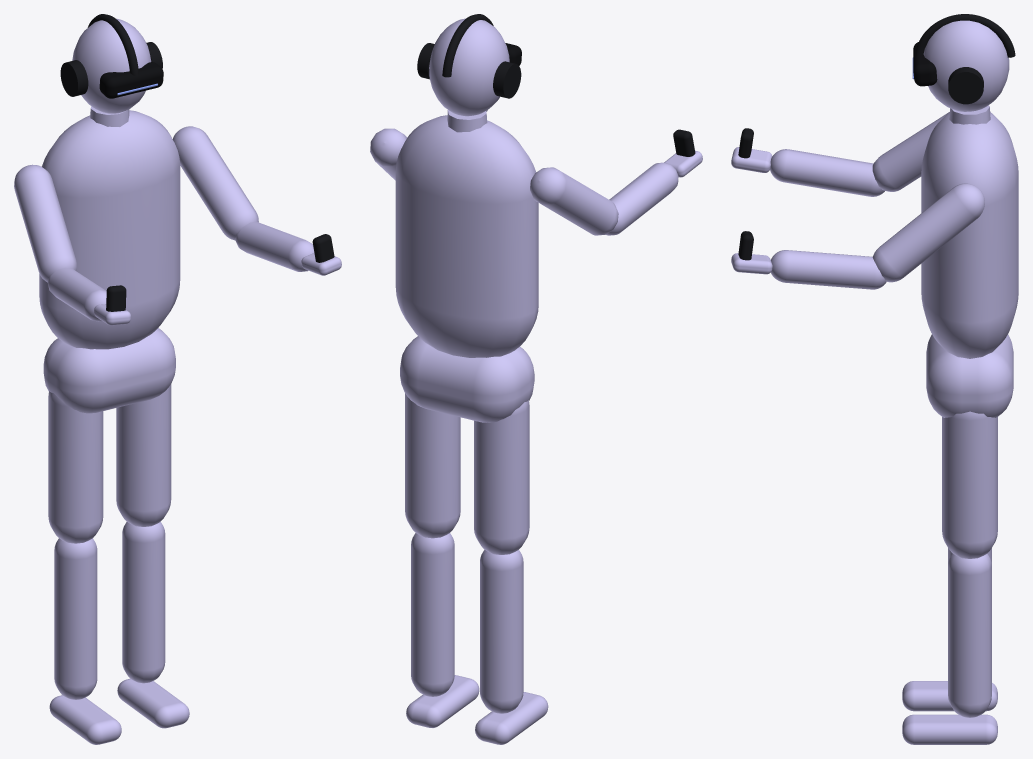
The model's file is mannequin-teleop.glb.
The picture shows the model from 3 angles, left to right: view 1: azimuth 30°, elevation 25°; view 2: azimuth 150°, elevation 25°; view 3: azimuth 270°, elevation 25°; orthographic projection.
Visible parts, largest first — view 1: chest, pelvis, thighR, thighL, shinR, shinL, upperArmL, upperArmR, headMesh, foreArmL, footL, footR (+4 smaller); view 2: chest, pelvis, thighR, thighL, shinR, shinL, headMesh, upperArmR, foreArmR, footR, footL, headset (+3 smaller); view 3: chest, thighL, shinL, pelvis, headMesh, upperArmL, foreArmR, foreArmL, footL, upperArmR, headset, footR (+4 smaller).
Boxes of the visible parts, left/top/right/bottom form: chest: left=39, top=110, right=180, bottom=349; pelvis: left=43, top=328, right=175, bottom=413; thighR: left=48, top=391, right=103, bottom=543; thighL: left=116, top=384, right=171, bottom=526; shinR: left=54, top=538, right=97, bottom=699; shinL: left=122, top=522, right=165, bottom=683; upperArmL: left=172, top=126, right=258, bottom=240; upperArmR: left=14, top=164, right=76, bottom=282; headMesh: left=72, top=18, right=151, bottom=113; foreArmL: left=235, top=221, right=314, bottom=271; footL: left=117, top=678, right=189, bottom=728; footR: left=49, top=695, right=121, bottom=744; chest: left=395, top=115, right=538, bottom=357; pelvis: left=400, top=336, right=534, bottom=422; thighR: left=474, top=400, right=529, bottom=554; thighL: left=405, top=393, right=460, bottom=538; shinR: left=480, top=550, right=523, bottom=713; shinL: left=411, top=533, right=454, bottom=696; headMesh: left=429, top=18, right=509, bottom=116; upperArmR: left=530, top=167, right=618, bottom=235; foreArmR: left=606, top=162, right=678, bottom=235; footR: left=475, top=692, right=548, bottom=744; footL: left=406, top=675, right=479, bottom=727; headset: left=417, top=14, right=521, bottom=98; chest: left=921, top=112, right=1018, bottom=358; thighL: left=942, top=411, right=997, bottom=558; shinL: left=948, top=554, right=991, bottom=717; pelvis: left=926, top=334, right=1013, bottom=417; headMesh: left=923, top=20, right=1009, bottom=111; upperArmL: left=872, top=183, right=984, bottom=282; foreArmR: left=770, top=149, right=884, bottom=196; foreArmL: left=771, top=250, right=886, bottom=289; footL: left=902, top=714, right=997, bottom=744; upperArmR: left=872, top=112, right=949, bottom=191; headset: left=912, top=14, right=1015, bottom=104; footR: left=902, top=681, right=997, bottom=711.
Size of the model in its own units: 0.6933 by 1.97 by 0.7221.
